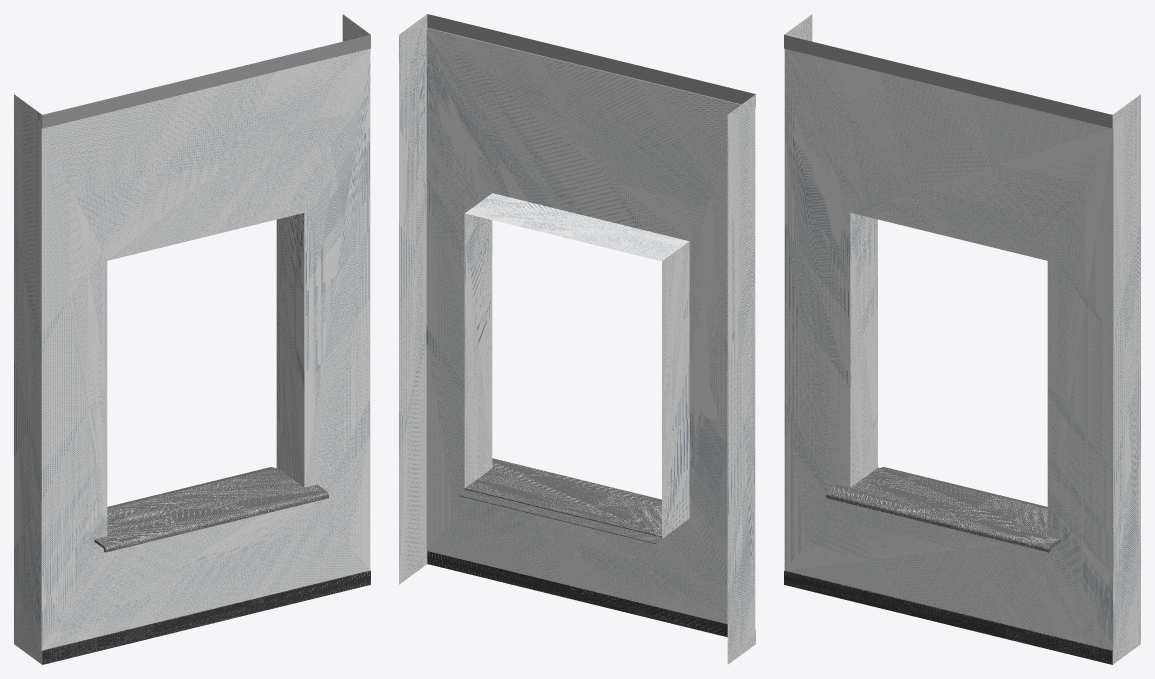
File: WindowBlock_os_plinth_[250x400]_150x200x[080].dae
3 views of the same model, side by side, from view 1: azimuth 30°, elevation 25°; view 2: azimuth 150°, elevation 25°; view 3: azimuth 330°, elevation 25° (orthographic).
Visible parts, largest first — view 1: group_1 (×4), group_2; view 2: group_1 (×4), group_2 (×2); view 3: group_1 (×4), group_2.
Boxes of the visible parts, box(x1,y1,x2,y2) form: group_1 (×4): box(14, 14, 370, 664); group_2: box(94, 467, 328, 552); group_1 (×4): box(399, 14, 755, 664); group_2 (×2): box(459, 458, 661, 543); group_1 (×4): box(784, 14, 1140, 664); group_2: box(826, 467, 1060, 552).
Bounding box in the file's own units: 98.43 × 23.03 × 157.
